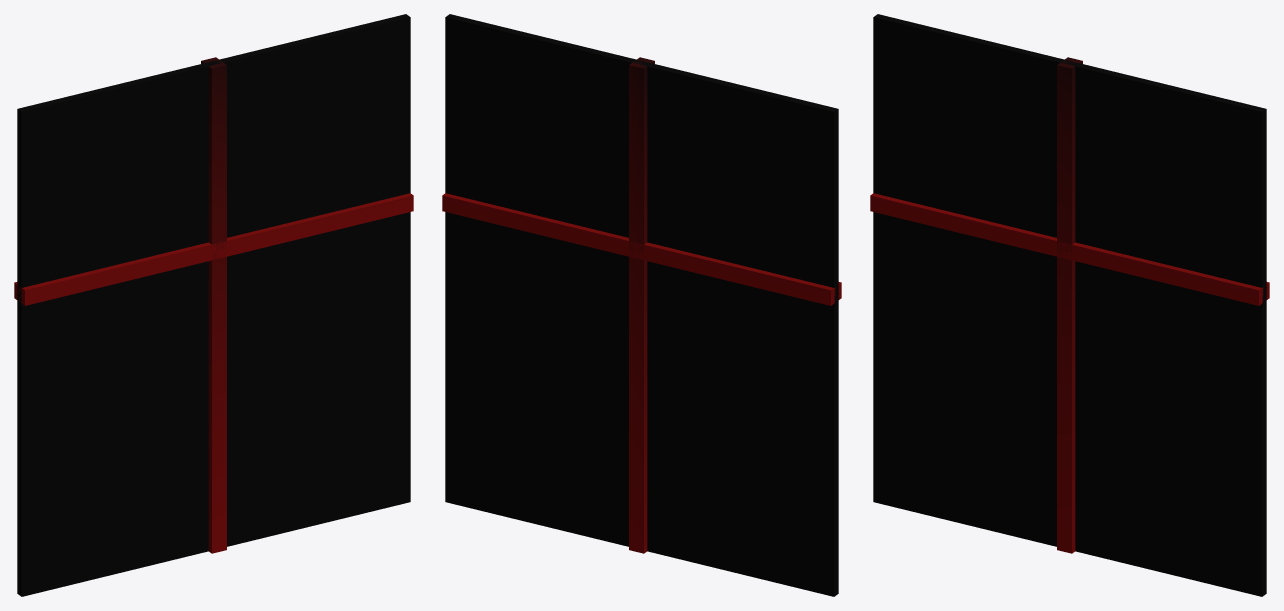
File: window_glass_2m_frosted.glb
The picture shows the model from 3 angles, left to right: view 1: azimuth 30°, elevation 25°; view 2: azimuth 150°, elevation 25°; view 3: azimuth 330°, elevation 25°; orthographic projection.
Visible parts, largest first — view 1: window_glass_2m_frosted; view 2: window_glass_2m_frosted; view 3: window_glass_2m_frosted.
Part boxes in pixels (x1,y1,x2,y2): window_glass_2m_frosted: (14, 14, 413, 596); window_glass_2m_frosted: (442, 14, 841, 596); window_glass_2m_frosted: (870, 14, 1269, 596).
Bounding box in the file's own units: 1.04 × 1.24 × 0.05.
